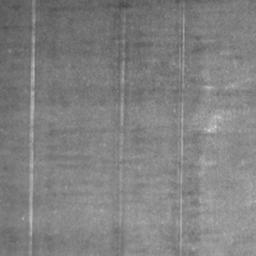Bright scratch: (27, 0, 37, 256)
